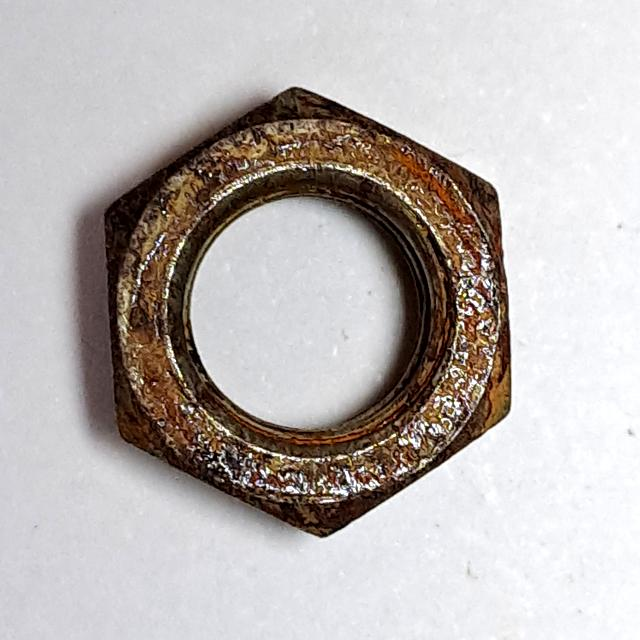Rust: (96, 72, 525, 550)
